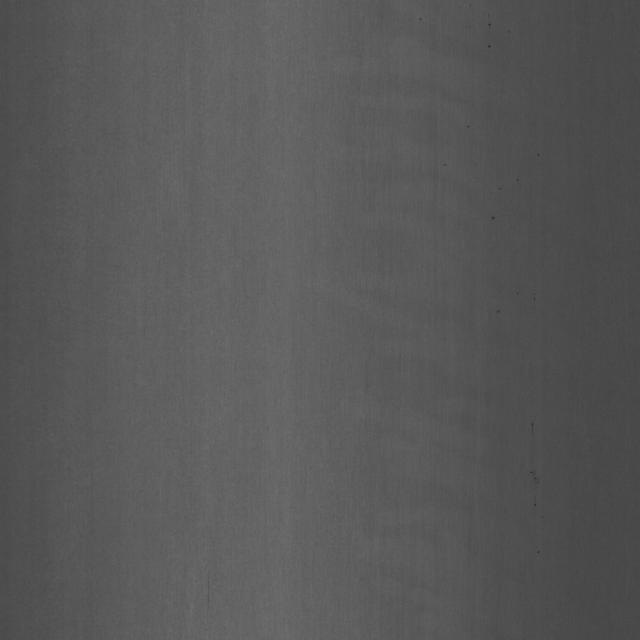oil_spot: (488, 204, 507, 236), (528, 409, 538, 435)
